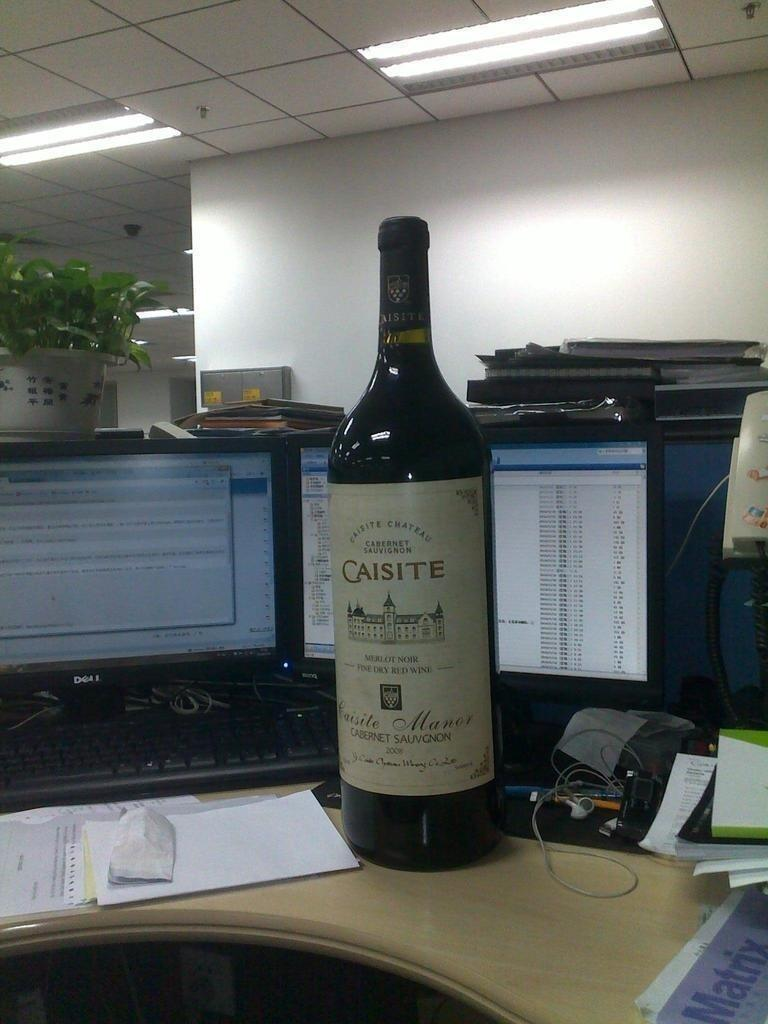bottle-glass: (312, 205, 507, 868)
